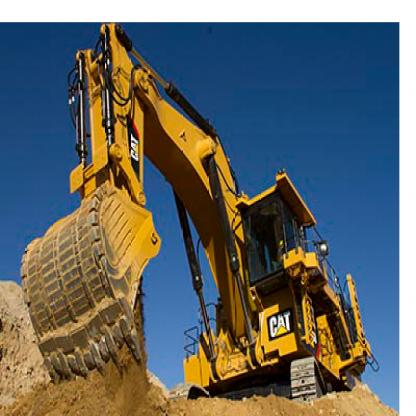excavator: (0, 17, 385, 399)
